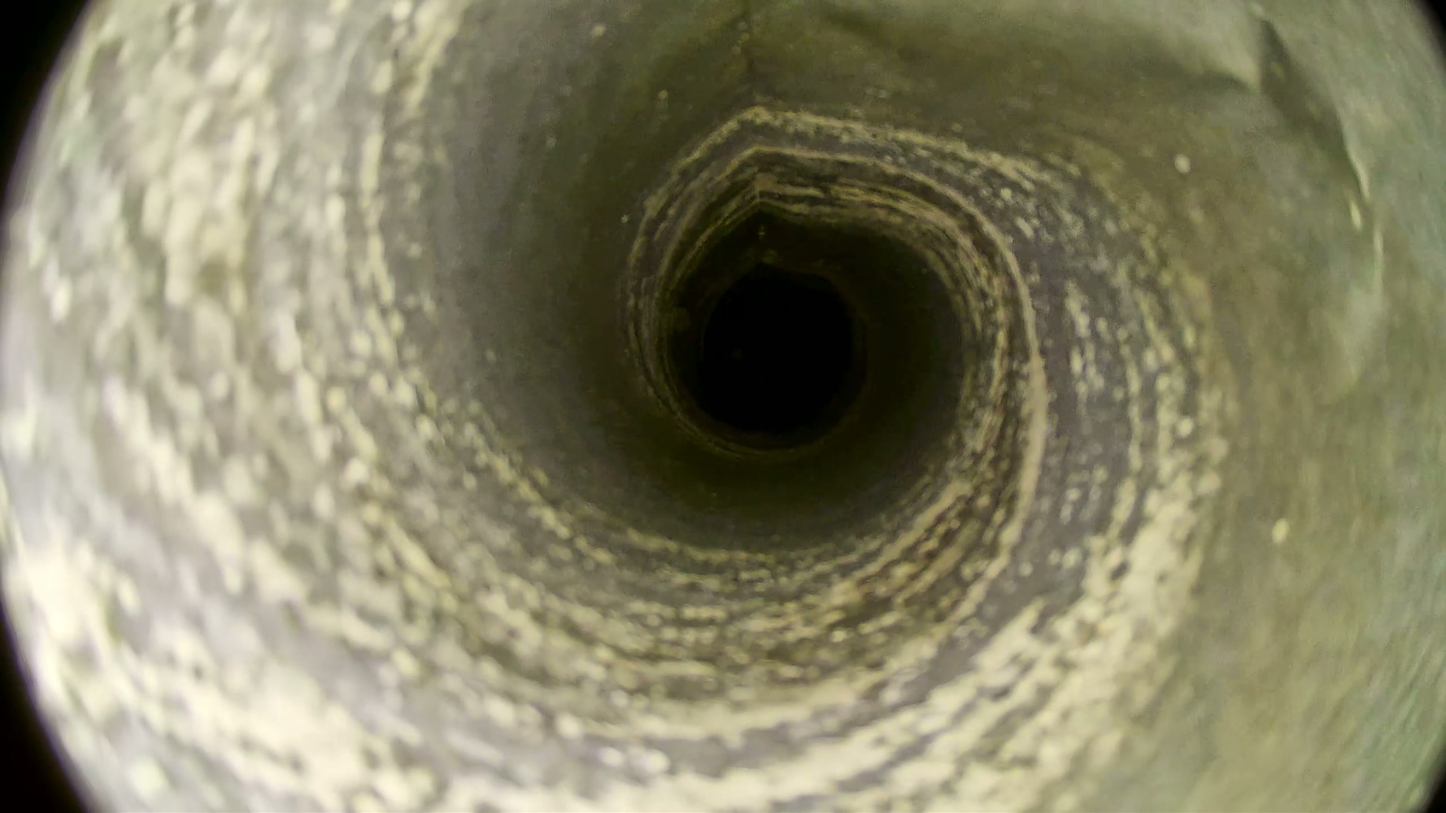hole: (705, 280, 850, 426)
